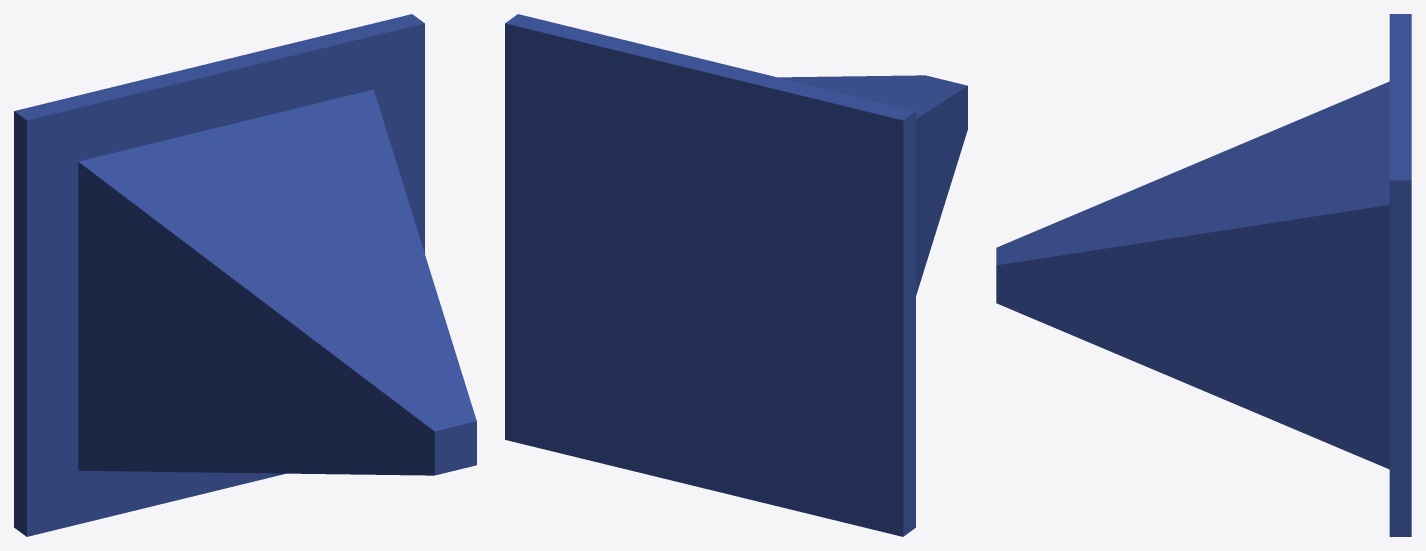
The model's file is tinker.obj.
3 views of the same model, side by side, from view 1: azimuth 30°, elevation 25°; view 2: azimuth 150°, elevation 25°; view 3: azimuth 270°, elevation 25° (orthographic). The views are drawn at different scales.
Parts seen in each view (by area): view 1: obj_0; view 2: obj_0; view 3: obj_0.
Boxes of the visible parts, bbox=[...] form: obj_0: bbox=[14, 14, 476, 536]; obj_0: bbox=[505, 14, 967, 536]; obj_0: bbox=[996, 14, 1411, 536].
Size of the model in its own units: 18 by 18 by 19.
